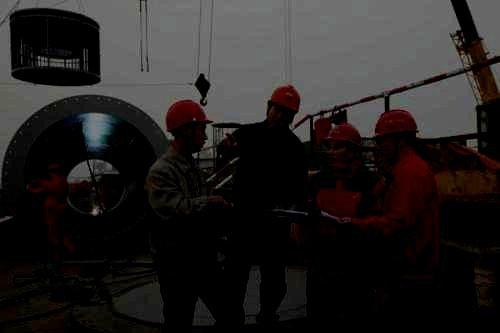helmet: (166, 99, 215, 153), (372, 109, 421, 159), (323, 122, 361, 170), (266, 83, 300, 130)
